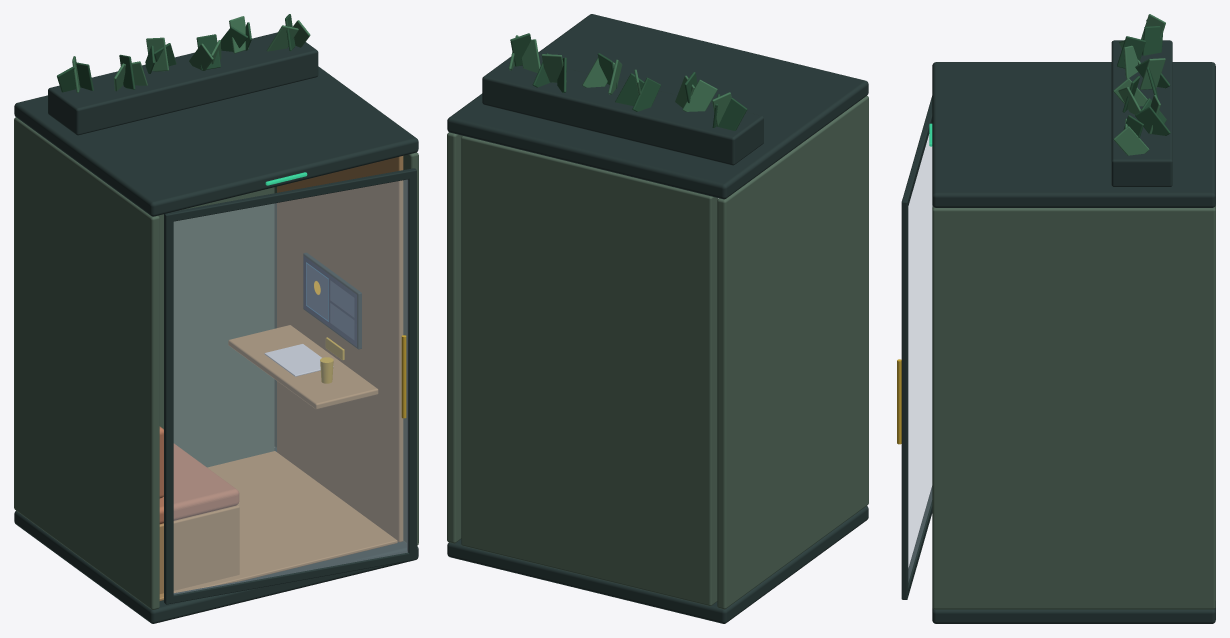
File: campus-pod-nordic.glb
3 views of the same model, side by side, from view 1: azimuth 30°, elevation 25°; view 2: azimuth 150°, elevation 25°; view 3: azimuth 270°, elevation 25° (orthographic). The views are drawn at different scales.
Bounding box in the file's own units: 1.45 × 2.49 × 1.46.
13 materials, 1 textured.
